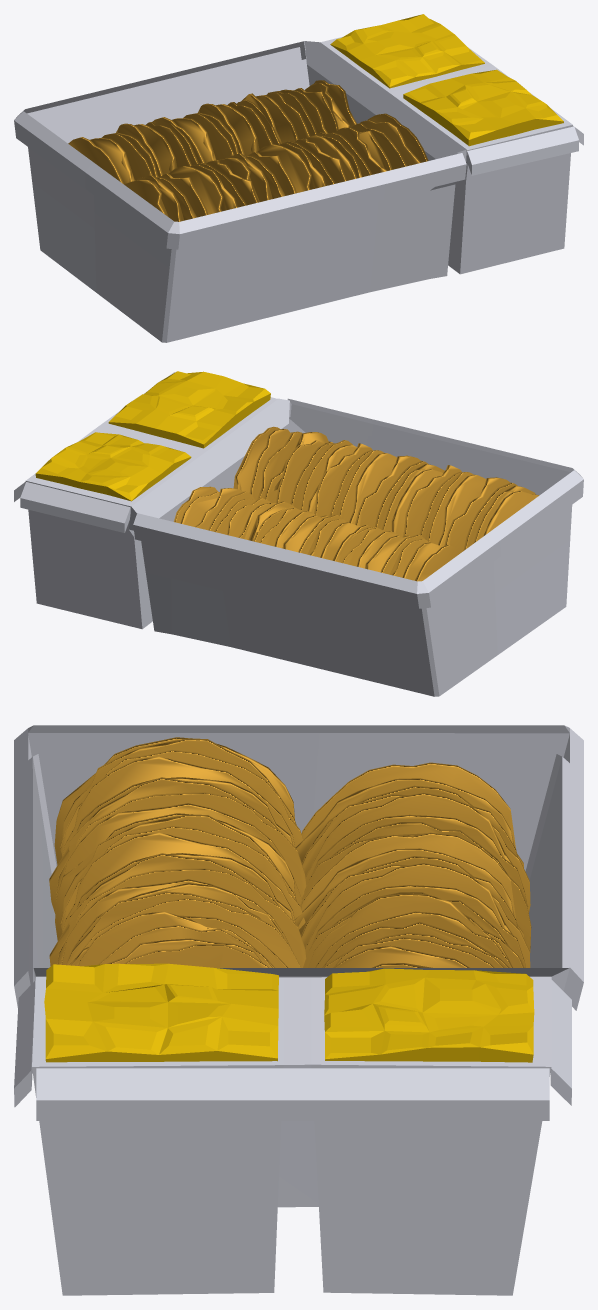
Rendered from NachoIndividual.glb.
3 views of the same model, one above another, from view 1: azimuth 30°, elevation 25°; view 2: azimuth 150°, elevation 25°; view 3: azimuth 270°, elevation 25° (orthographic). The views are drawn at different scales.
Parts seen in each view (by area): view 1: Cube, Cylinder.001, Cylinder.007, Cube.002, Cube.001; view 2: Cube, Cylinder.001, Cylinder.007, Cube.002, Cube.001; view 3: Cube, Cylinder.001, Cylinder.007, Cube.002, Cube.001.
Boxes of the visible parts, x1,y1,x2,y2 form: Cube: [14, 37, 583, 342]; Cylinder.001: [124, 113, 428, 221]; Cylinder.007: [68, 80, 356, 184]; Cube.002: [403, 69, 563, 146]; Cube.001: [330, 14, 484, 88]; Cube: [14, 372, 583, 696]; Cylinder.001: [233, 426, 539, 552]; Cylinder.007: [174, 486, 460, 581]; Cube.002: [108, 371, 270, 448]; Cube.001: [35, 432, 191, 501]; Cube: [14, 725, 583, 1295]; Cylinder.001: [49, 737, 306, 967]; Cylinder.007: [294, 762, 531, 967]; Cube.002: [44, 963, 278, 1062]; Cube.001: [324, 968, 534, 1062].
Size of the model in its own units: 6.73 by 2.2 by 4.51.
